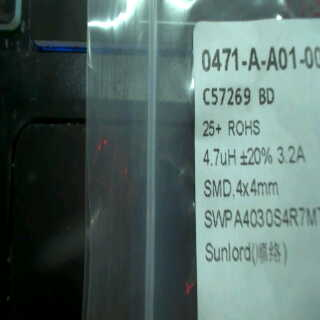4.7uH: (201, 146, 240, 167)
